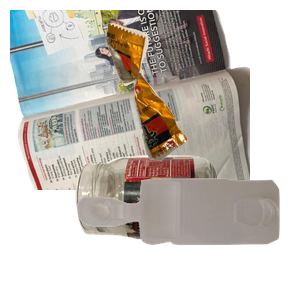glass: (73, 153, 284, 300)
paper: (10, 10, 250, 190)
plastic: (75, 176, 300, 300)
trash: (103, 21, 300, 174)
